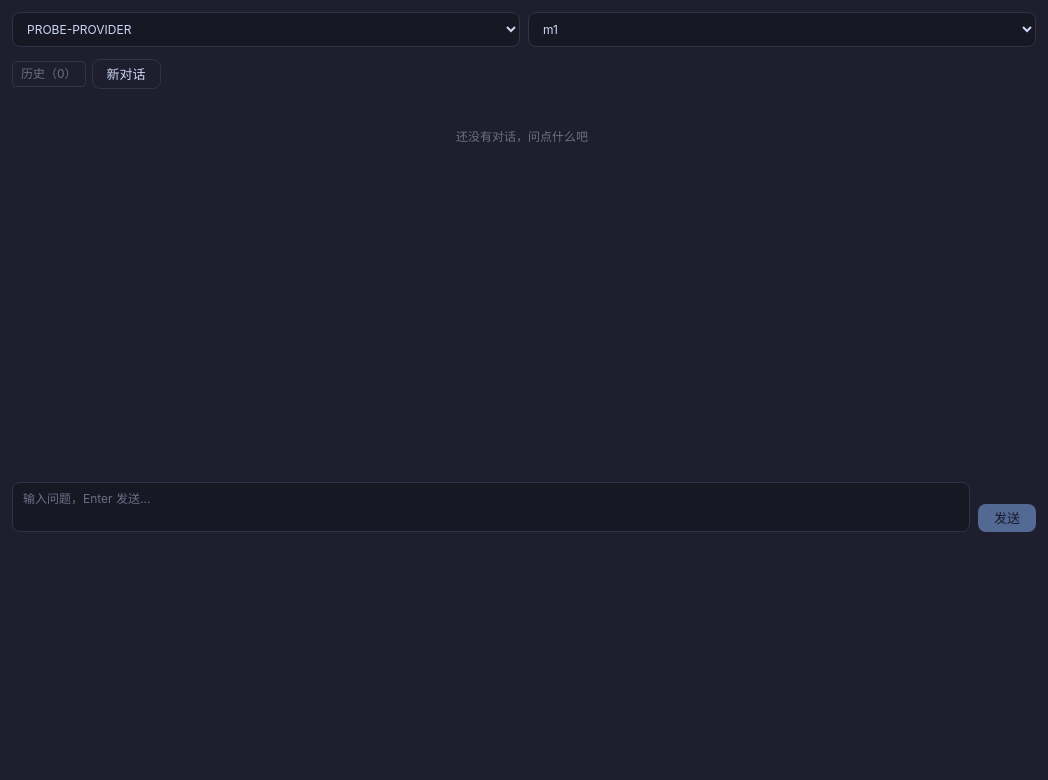
KbAskPanel — 发起那一发要判信封（§318） › 入参被挡（回码形状）⇒ 转圈退回「发送」、四语说清哪一项过长、且不假装发起成功
Expected: the button "发送" is shown, [978,504,1036,532]
Type "PROBE-超长提问" into the text box with placeholder "输入问题，Enter 发送…" at (491, 507), box [12,482,970,532]
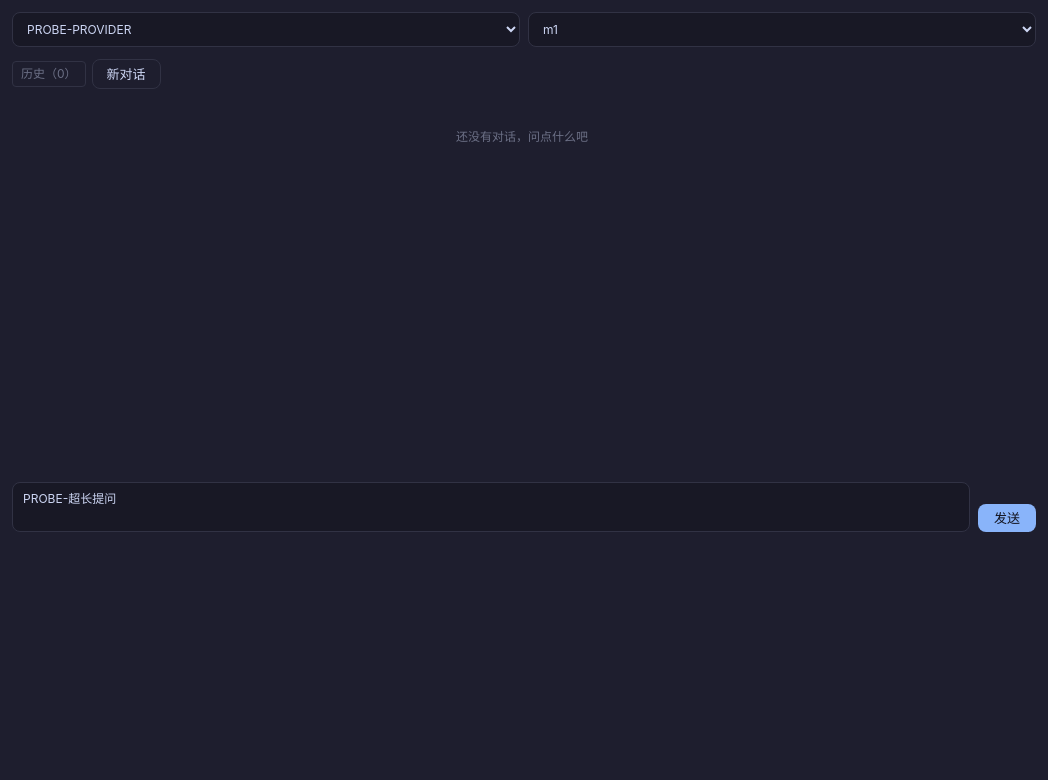
Click the button "发送" at (1007, 518), box [978,504,1036,532]
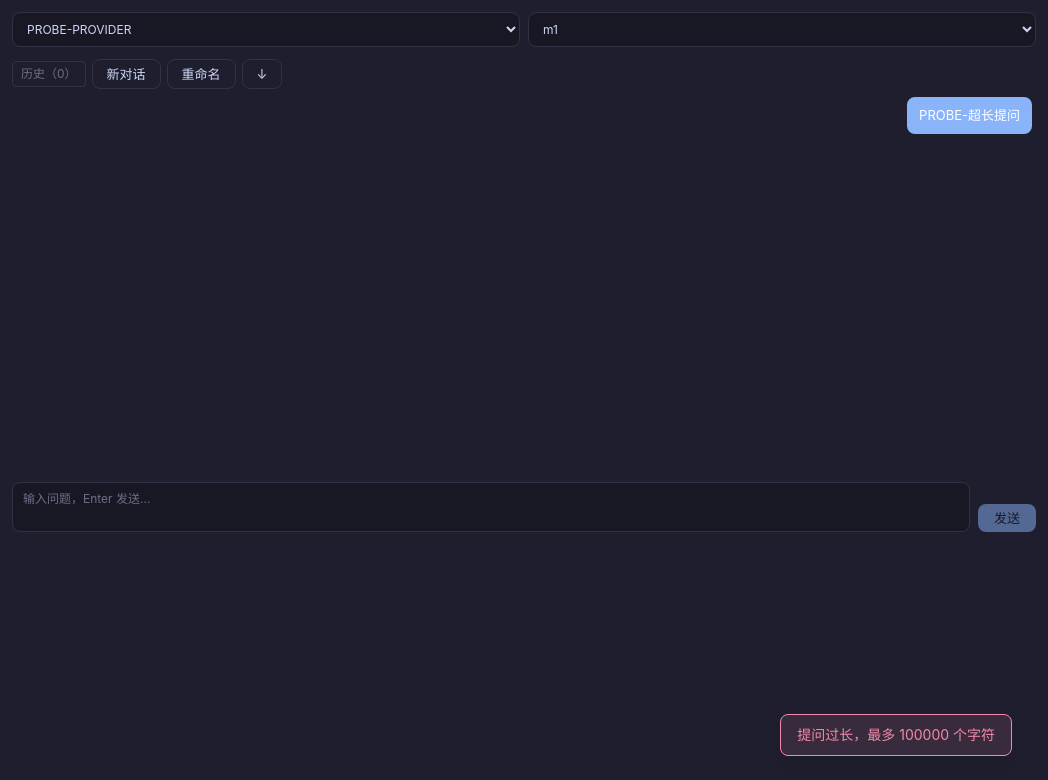
Expected: the text "提问过长，最多 100000 个字符" is shown, [780,714,1012,756]
